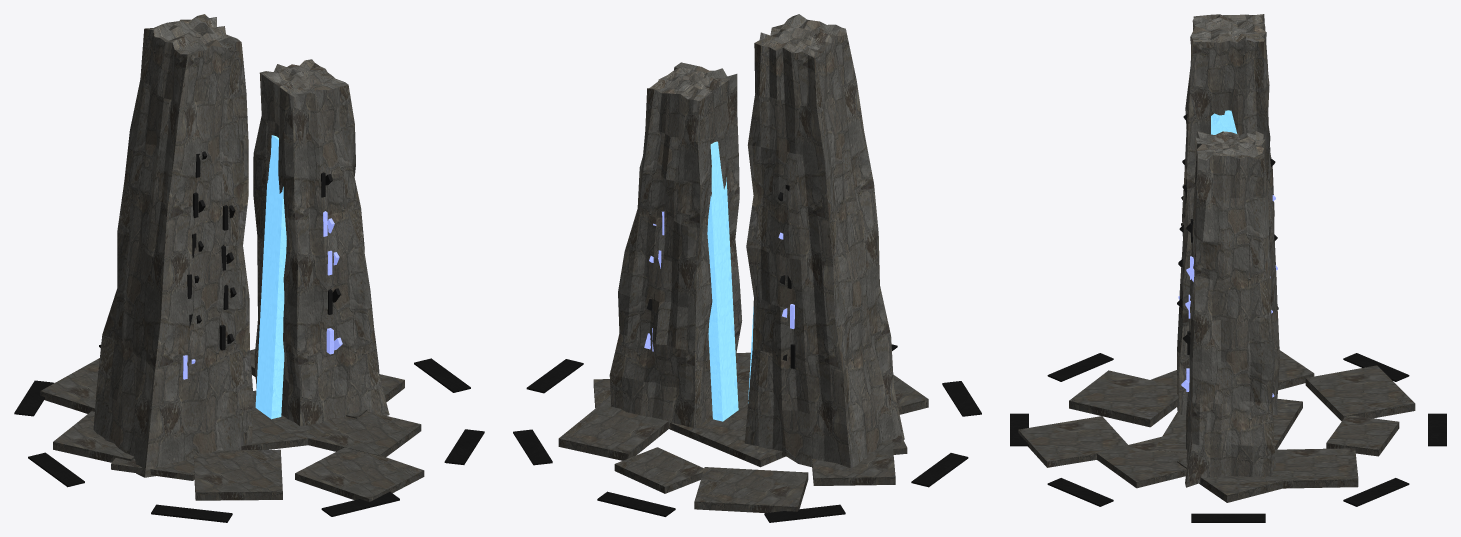
The model's file is prop_era_rift_monolith.glb.
3 views of the same model, side by side, from view 1: azimuth 30°, elevation 25°; view 2: azimuth 150°, elevation 25°; view 3: azimuth 270°, elevation 25° (orthographic). The views are drawn at different scales.
Visible parts, largest first — view 1: prop_era_rift_monolith; view 2: prop_era_rift_monolith; view 3: prop_era_rift_monolith.
Boxes of the visible parts, <box> form: prop_era_rift_monolith: <box>14,14,484,522</box>; prop_era_rift_monolith: <box>513,14,981,522</box>; prop_era_rift_monolith: <box>1010,14,1446,522</box>.
Bounding box in the file's own units: 3.24 × 3.17 × 3.24.
6 materials, 6 textured.
